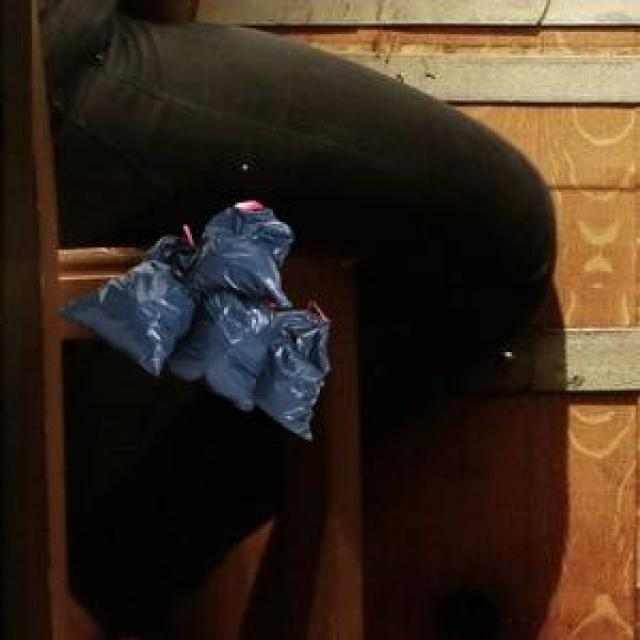miscellaneous trash: (53, 196, 324, 435)
